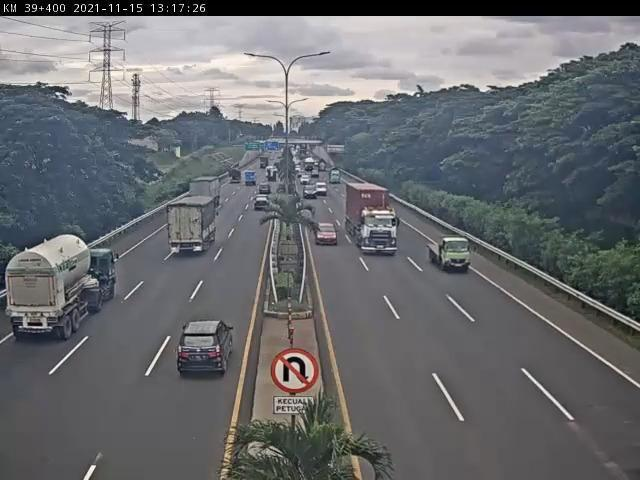car: (178, 321, 233, 378), (316, 224, 339, 246), (255, 196, 271, 212)
truck: (7, 235, 120, 337), (346, 184, 398, 255), (169, 196, 217, 256), (427, 237, 473, 271), (191, 178, 223, 209)
